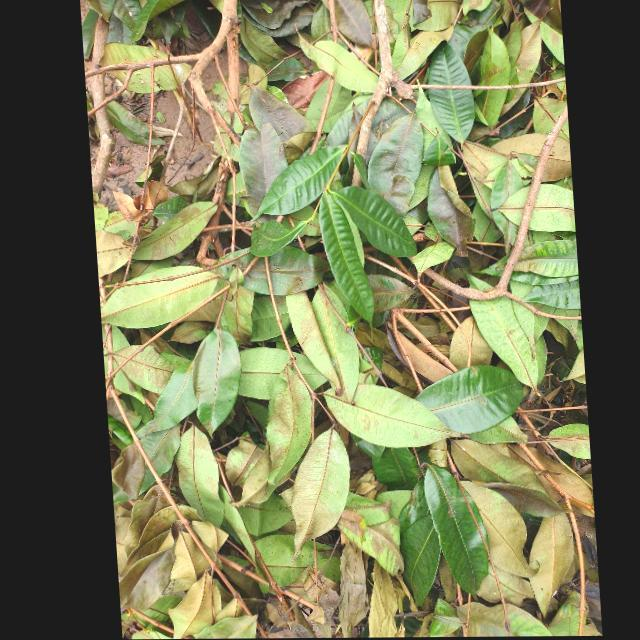biowaste: (110, 501, 213, 630), (500, 191, 577, 333), (240, 361, 310, 502), (308, 383, 446, 451), (315, 191, 381, 331), (416, 467, 484, 598), (446, 442, 561, 519), (458, 485, 526, 608), (279, 430, 346, 554), (96, 264, 218, 332), (99, 346, 191, 432), (150, 427, 224, 533), (465, 296, 545, 394), (289, 13, 379, 100), (412, 368, 522, 438), (462, 31, 533, 138), (304, 284, 361, 405), (255, 143, 345, 219), (389, 0, 464, 86), (331, 492, 403, 581), (417, 44, 477, 147), (365, 117, 425, 216), (232, 123, 288, 226), (185, 329, 238, 437), (516, 514, 570, 620), (215, 247, 329, 297), (91, 42, 194, 93), (128, 202, 215, 261), (248, 534, 333, 594), (392, 494, 436, 609), (159, 580, 235, 639), (86, 0, 188, 43), (246, 88, 314, 152), (427, 166, 473, 258), (365, 269, 435, 329), (448, 602, 539, 638), (232, 348, 286, 402), (360, 565, 398, 638), (331, 539, 359, 638), (322, 0, 375, 47), (443, 315, 486, 371), (92, 230, 129, 277), (287, 352, 323, 392), (463, 275, 489, 292)
